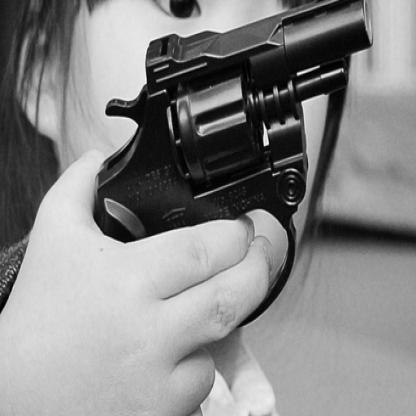gun: (91, 0, 376, 329)
